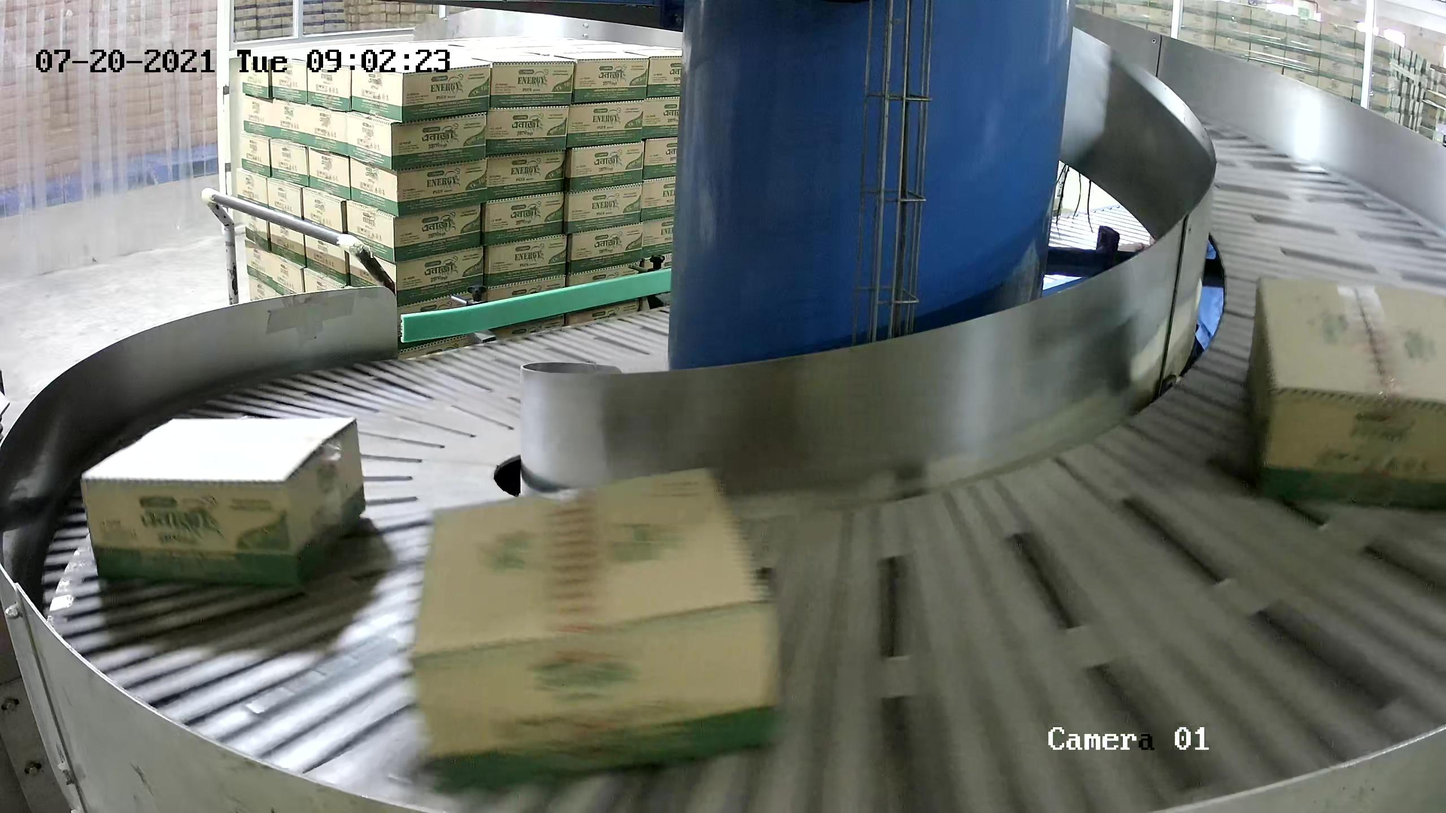Box: (407, 463, 786, 795), (77, 412, 367, 594), (1239, 274, 1446, 514)
